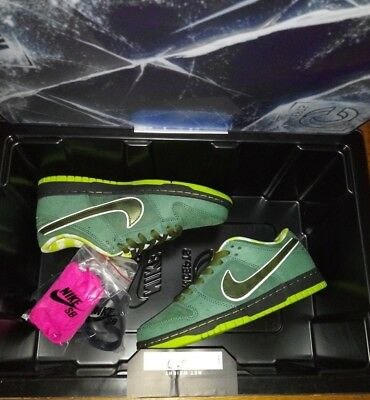Nike SB Dunk Green Lobster: (134, 225, 332, 355), (27, 160, 237, 263)
